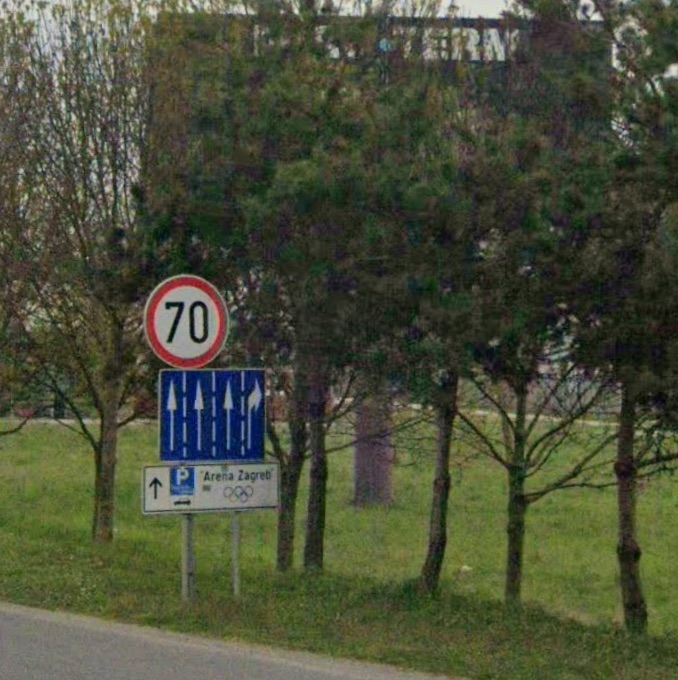Ograničenje brzine 70: (143, 274, 229, 370)
